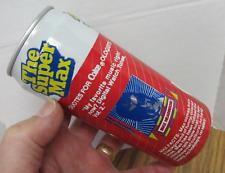metal: (9, 7, 212, 166)
